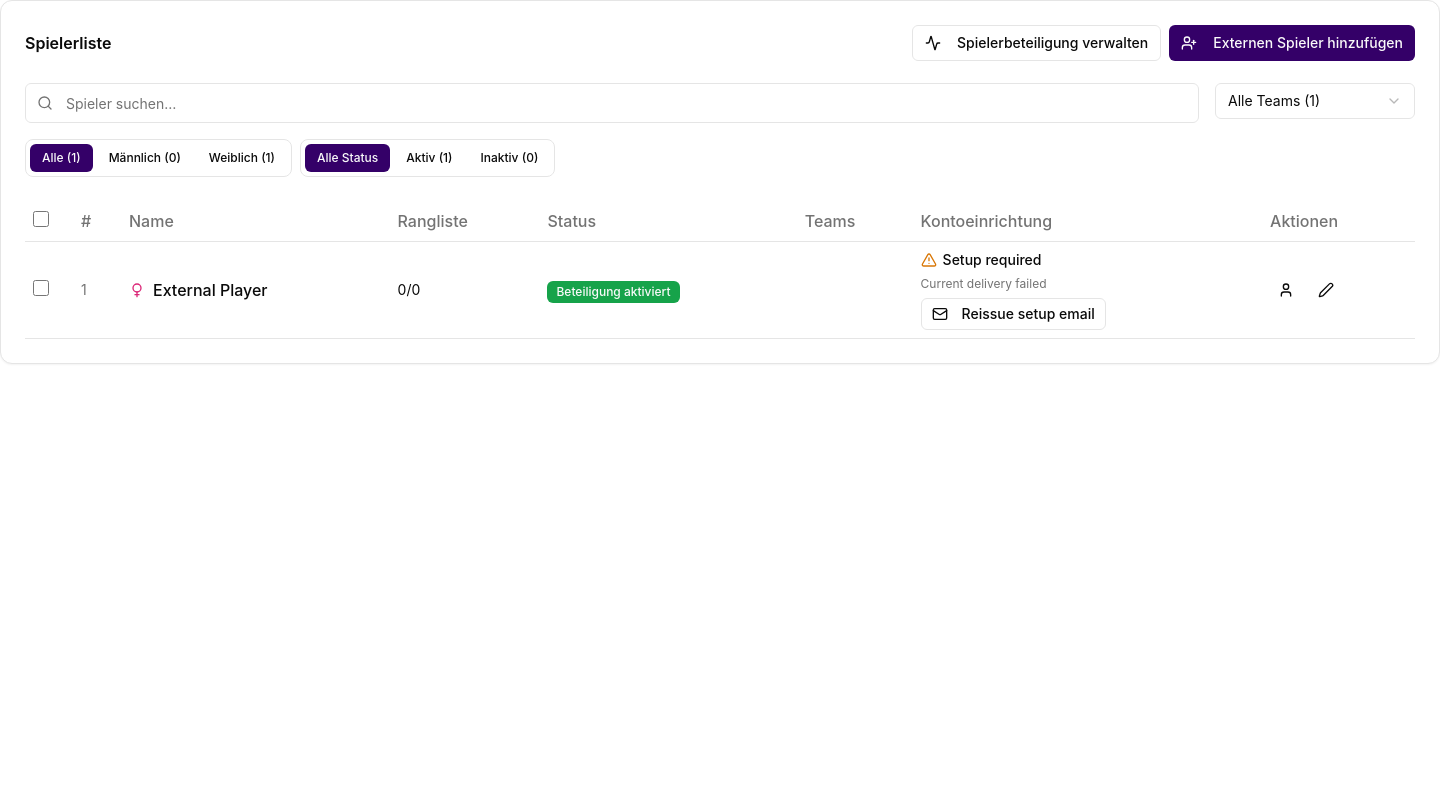
PlayersTab External Player administration › uses the active locale for Player lifecycle controls
The width and height of the screenshot is (1440, 810).
Check: the text "Spielerliste" is shown, box [25,35,111,51]
Click the button "Spielerbeteiligung verwalten" at (1037, 43), box [912,25,1161,61]
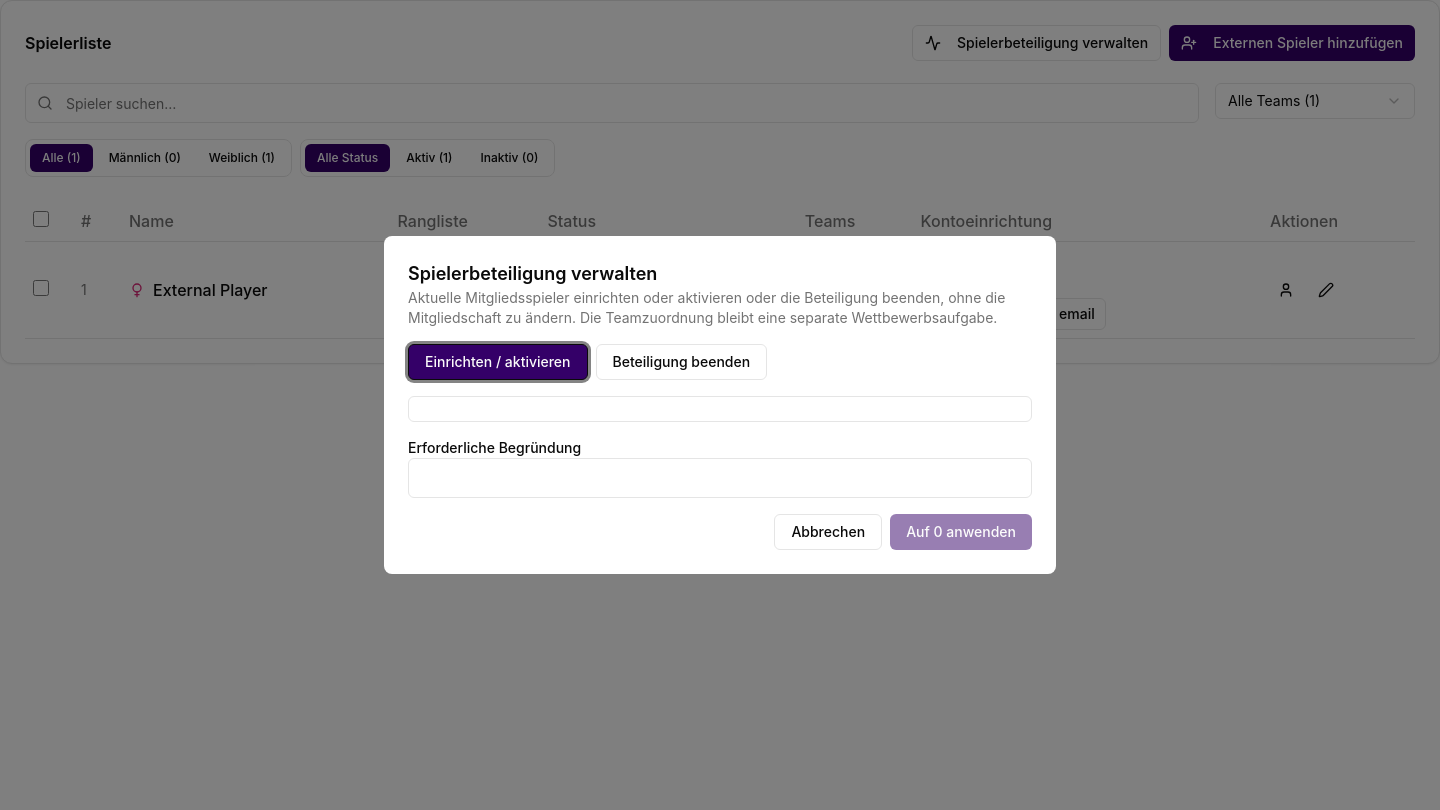
Check: the field labelled "Erforderliche Begründung" is shown, box [408,458,1032,498]
Check: the button "Einrichten / aktivieren" is shown, box [408,344,588,380]
